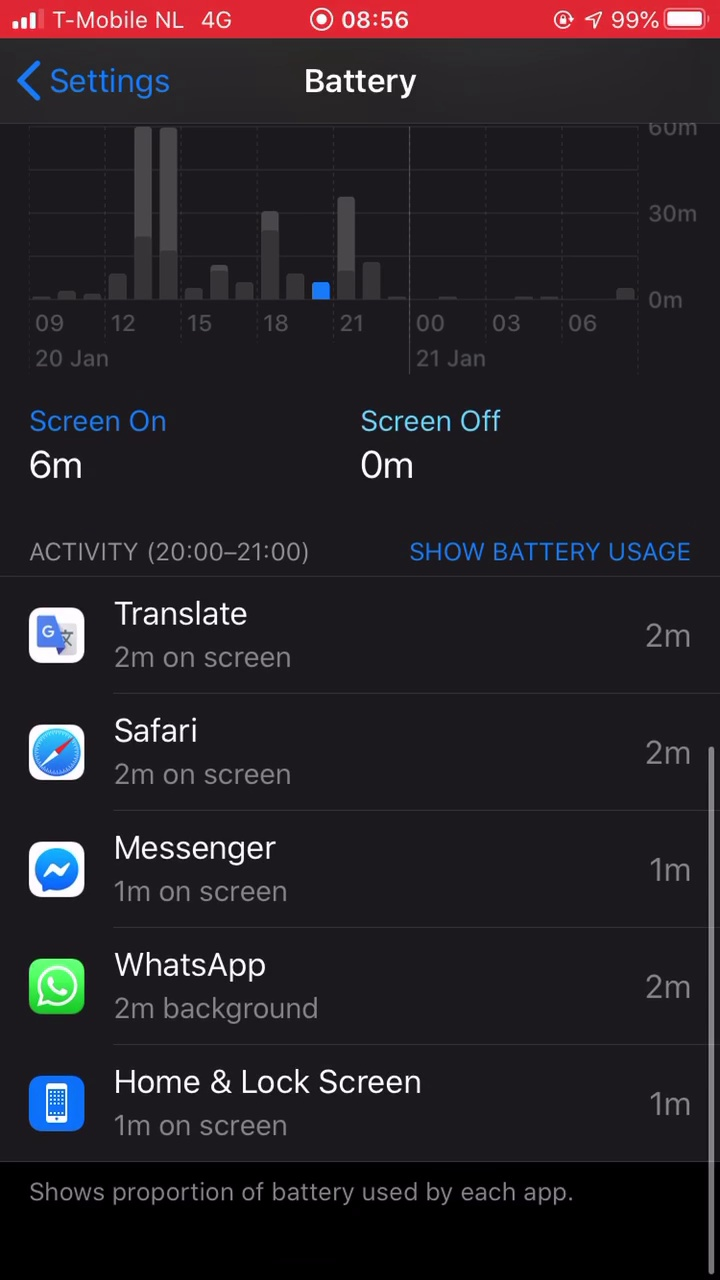activity: (21, 517, 351, 578)
app: (23, 583, 704, 678), (21, 699, 702, 794), (21, 821, 702, 916), (23, 941, 704, 1036), (24, 1057, 705, 1152)
